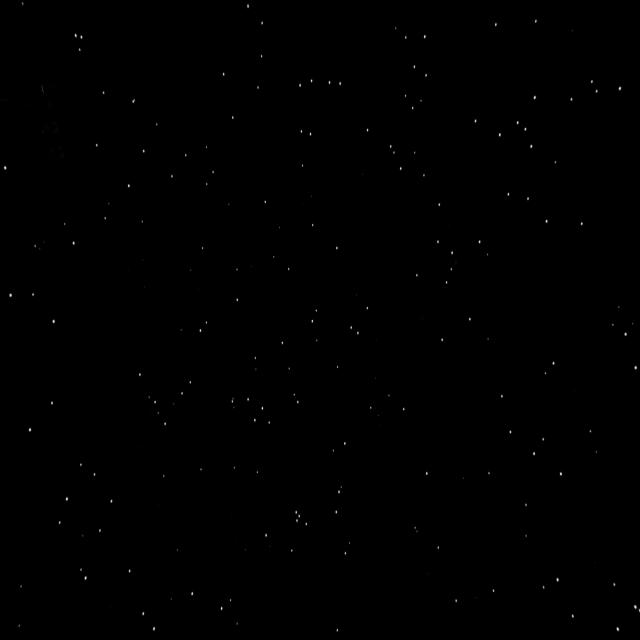medium_debris: (0, 63, 102, 171)
